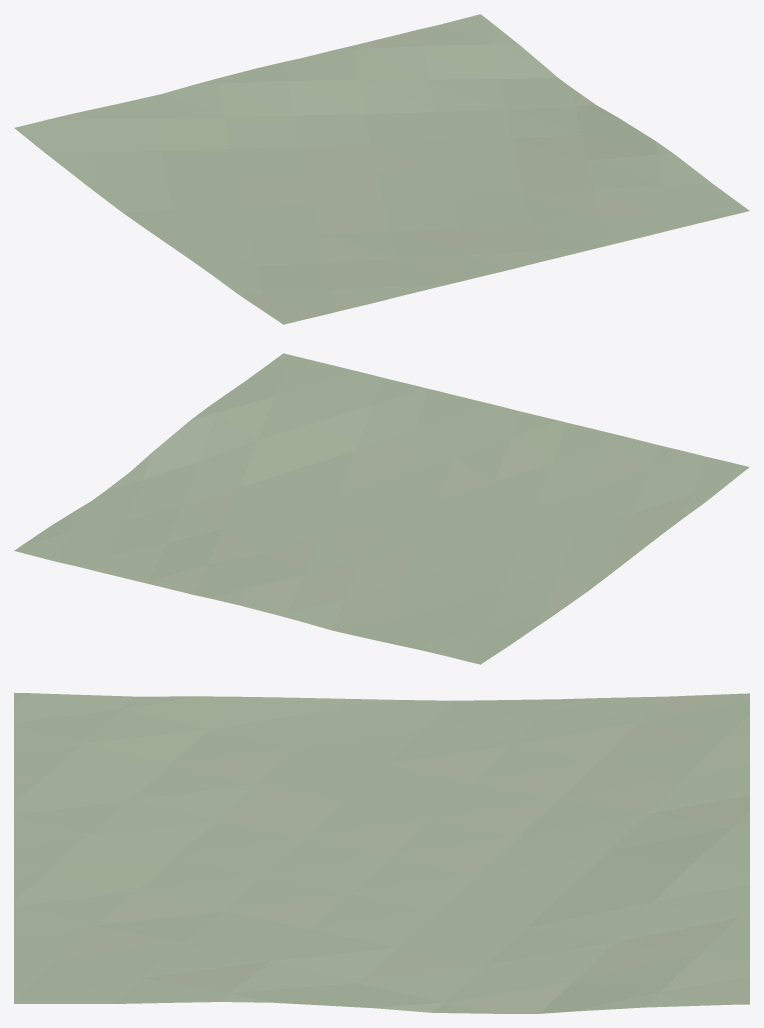
Rendered from SM_MPRR_Terrain_-1_2.fbx.
The picture shows the model from 3 angles, top to bottom: view 1: azimuth 30°, elevation 25°; view 2: azimuth 150°, elevation 25°; view 3: azimuth 270°, elevation 25°; orthographic projection. The views are drawn at different scales.
Visible parts, largest first — view 1: SM_MPRR_Terrain_-1_2; view 2: SM_MPRR_Terrain_-1_2; view 3: SM_MPRR_Terrain_-1_2.
Part boxes in pixels (x1,y1,x2,y2): SM_MPRR_Terrain_-1_2: (14,14,749,324); SM_MPRR_Terrain_-1_2: (14,353,749,664); SM_MPRR_Terrain_-1_2: (14,693,749,1013).
Bounding box in the file's own units: 15000 × 15000 × 276.
